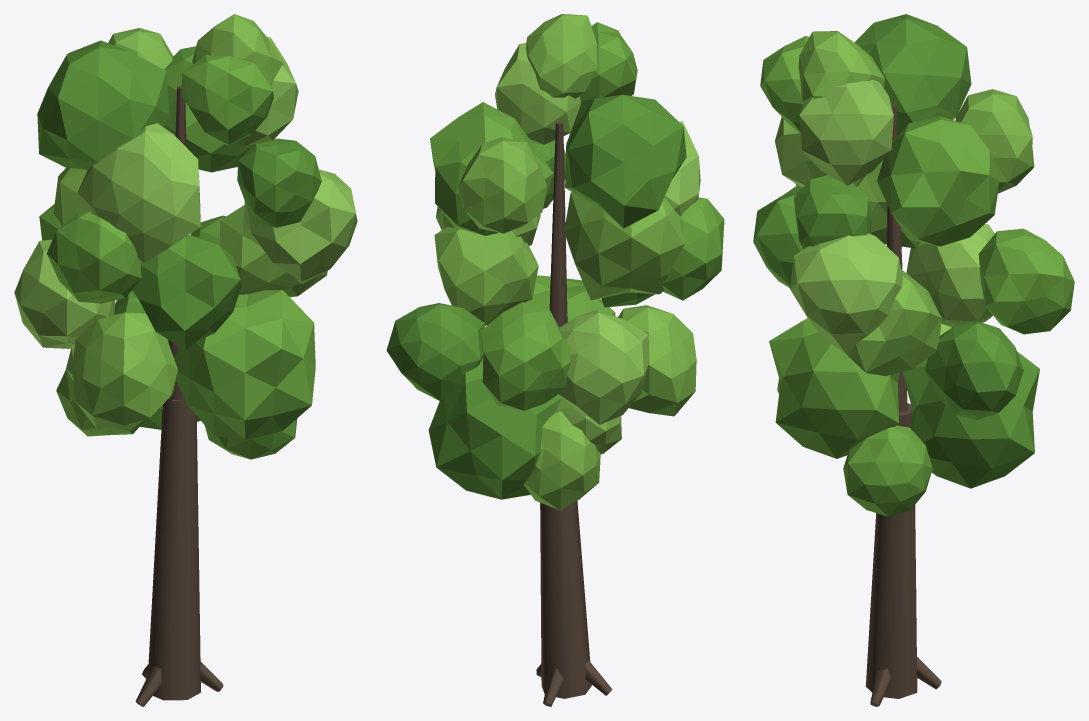
File: tree01.glb
3 renders of one model, left to right at view 1: azimuth 30°, elevation 25°; view 2: azimuth 150°, elevation 25°; view 3: azimuth 270°, elevation 25°, orthographic. The views are drawn at different scales.
Parts seen in each view (by area): view 1: crown, trunk; view 2: crown, trunk; view 3: crown, trunk.
Part boxes in pixels (left/top/right/bottom): crown: left=14, top=14, right=357, bottom=459; trunk: left=135, top=85, right=223, bottom=706; crown: left=386, top=14, right=724, bottom=510; trunk: left=536, top=121, right=612, bottom=706; crown: left=753, top=14, right=1074, bottom=516; trunk: left=865, top=104, right=941, bottom=706.
Size of the model in its own units: 1.61 by 3.57 by 1.55.
